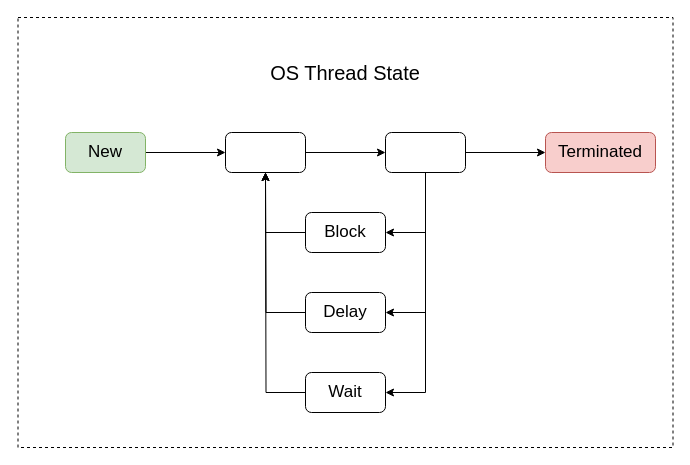
This 690x465 diagram has some shape labels left out. Each missing label, with the centre of its shape:
"Ready" belongs at (265,152).
"Running" belongs at (425,152).
